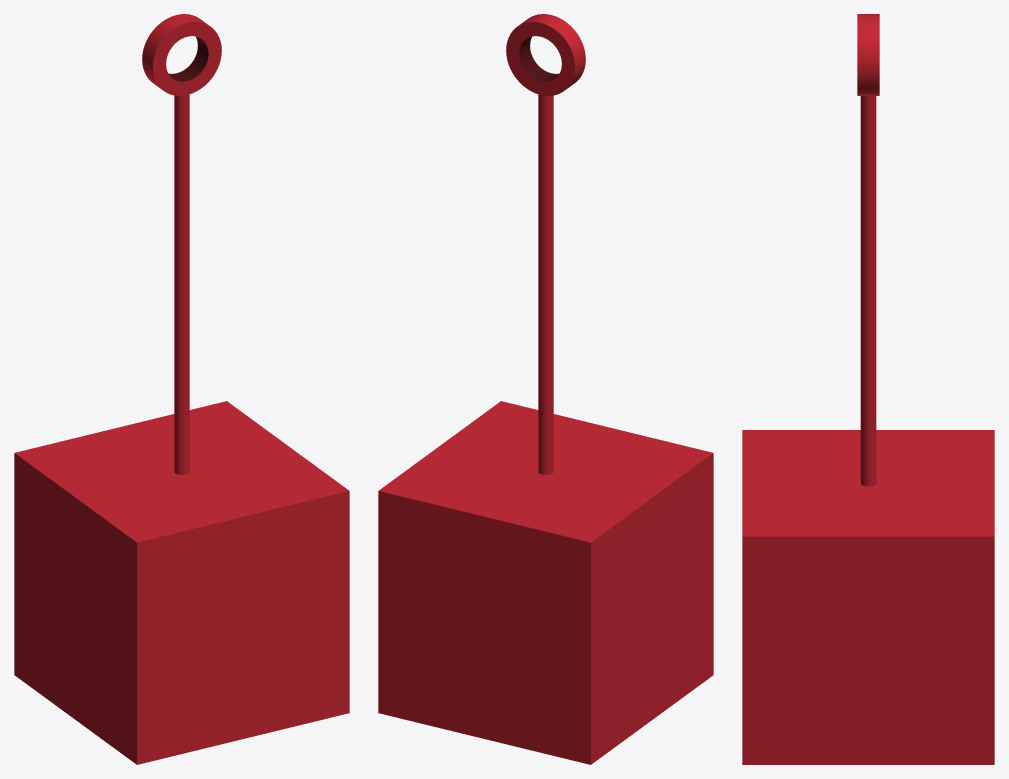
The model's file is pesa-pesada.glb.
3 renders of one model, left to right at view 1: azimuth 30°, elevation 25°; view 2: azimuth 150°, elevation 25°; view 3: azimuth 270°, elevation 25°, orthographic. The views are drawn at different scales.
Parts seen in each view (by area): view 1: geometry_0, geometry_1; view 2: geometry_0, geometry_1; view 3: geometry_0.
Boxes of the visible parts, box(x1,y1,x2,y2) form: geometry_0: box(14, 14, 349, 764); geometry_1: box(169, 36, 208, 81); geometry_0: box(378, 14, 713, 764); geometry_1: box(519, 36, 558, 81); geometry_0: box(742, 14, 994, 764).
Size of the model in its own units: 0.016 by 0.0486 by 0.016.
